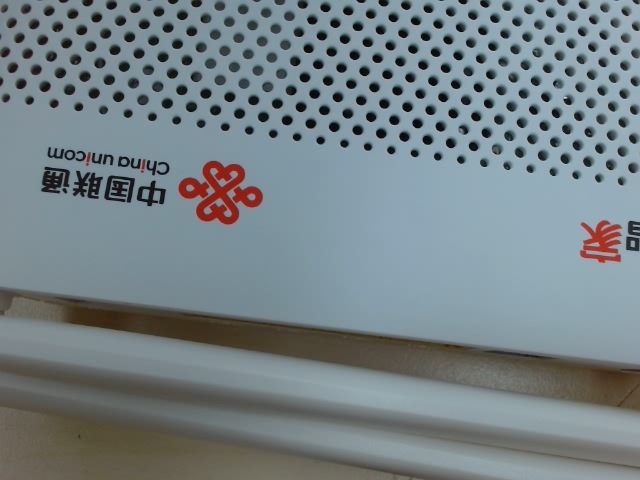AD_ChinaUnicom: (27, 133, 275, 228)
